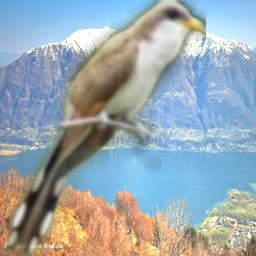Cuckoo: (6, 0, 206, 256)
